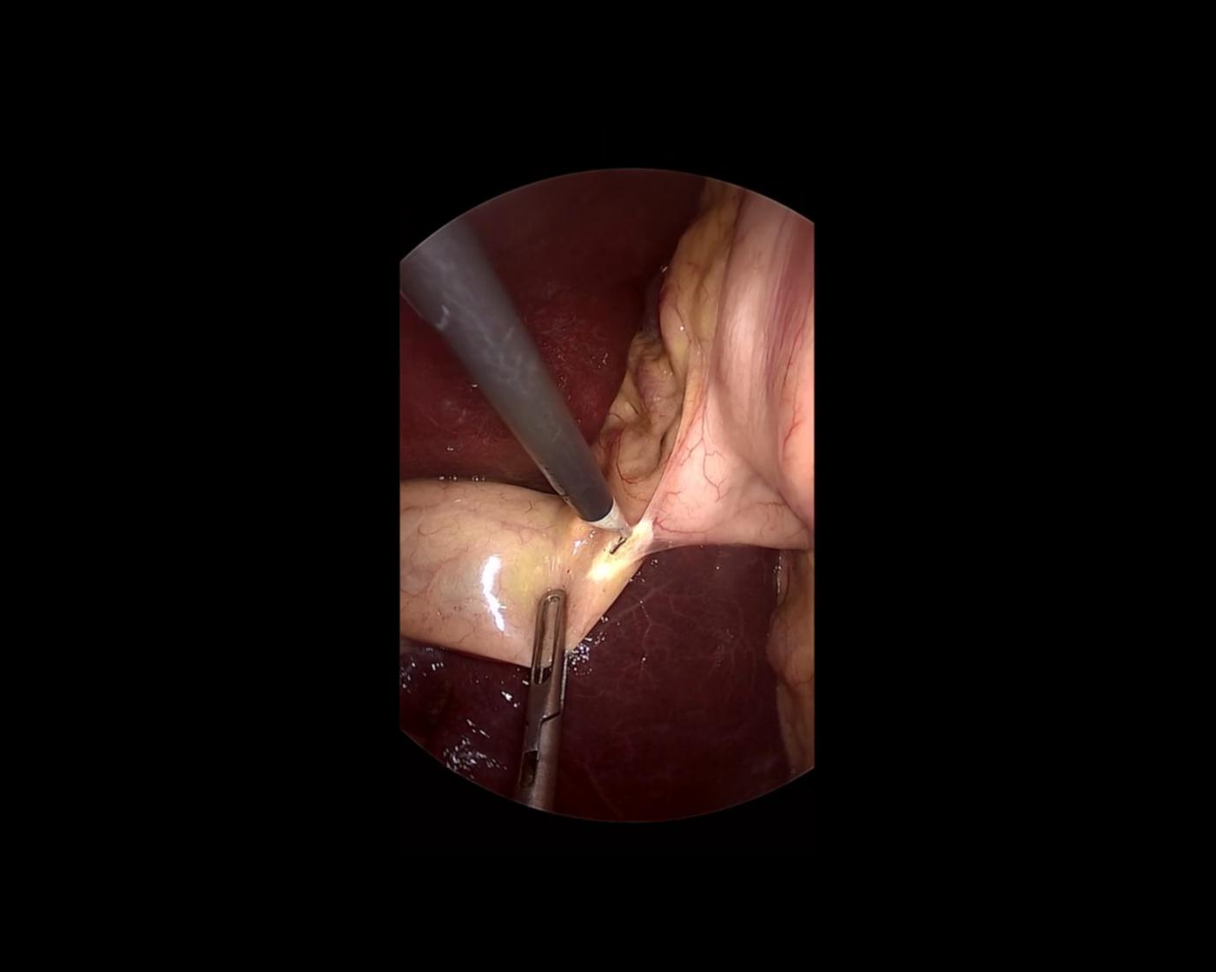Cautery: (384, 213, 638, 583)
Forceps: (514, 585, 570, 811)
Gallbladder: (368, 460, 654, 685)
Liver: (328, 80, 718, 548), (395, 540, 791, 825)
